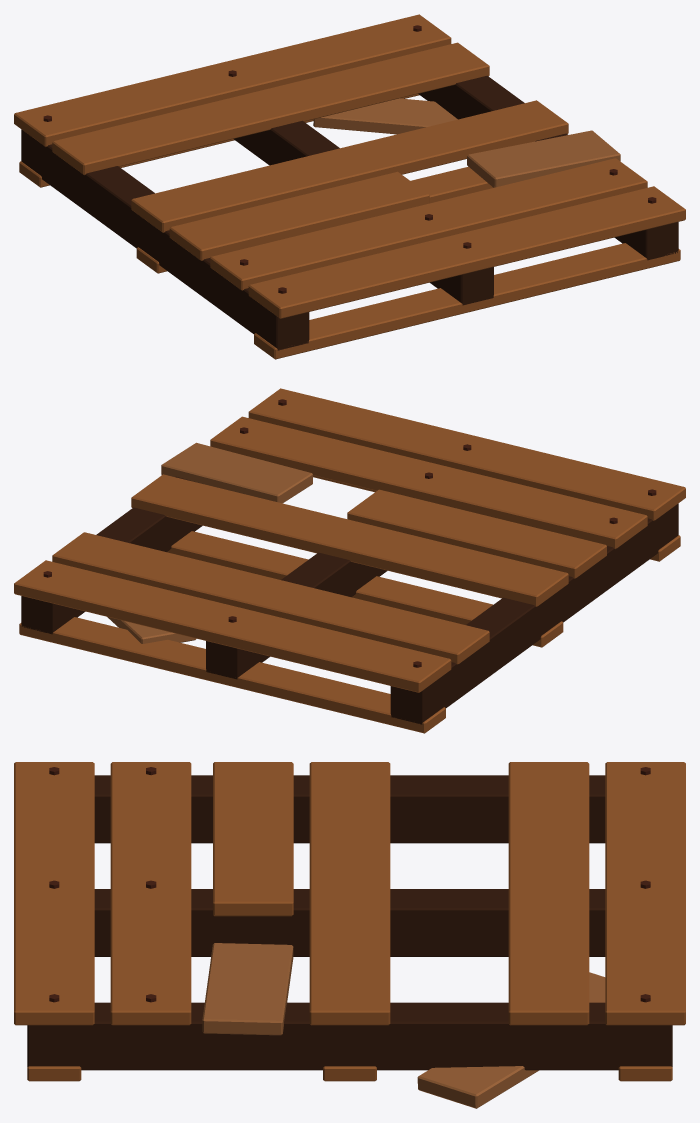
Rendered from DEBRIS_05_Pallet.obj.
3 views of the same model, one above another, from view 1: azimuth 30°, elevation 25°; view 2: azimuth 150°, elevation 25°; view 3: azimuth 270°, elevation 25° (orthographic). The views are drawn at different scales.
Parts seen in each view (by area): view 1: DEBRIS_05_Pallet_Top_Boards, DEBRIS_05_Pallet_Stringers, DEBRIS_05_Pallet_Bottom_Boards, DEBRIS_05_Pallet_Broken_Board; view 2: DEBRIS_05_Pallet_Top_Boards, DEBRIS_05_Pallet_Stringers, DEBRIS_05_Pallet_Bottom_Boards, DEBRIS_05_Pallet_Broken_Board; view 3: DEBRIS_05_Pallet_Top_Boards, DEBRIS_05_Pallet_Stringers, DEBRIS_05_Pallet_Broken_Board, DEBRIS_05_Pallet_Bottom_Boards, DEBRIS_05_Pallet_Nails.
Boxes of the visible parts, x1=… form: DEBRIS_05_Pallet_Top_Boards: x1=14, y1=14, x2=685, y2=318; DEBRIS_05_Pallet_Stringers: x1=21, y1=75, x2=678, y2=350; DEBRIS_05_Pallet_Bottom_Boards: x1=19, y1=94, x2=680, y2=359; DEBRIS_05_Pallet_Broken_Board: x1=313, y1=98, x2=620, y2=187; DEBRIS_05_Pallet_Top_Boards: x1=14, y1=388, x2=685, y2=692; DEBRIS_05_Pallet_Stringers: x1=21, y1=476, x2=678, y2=724; DEBRIS_05_Pallet_Bottom_Boards: x1=19, y1=475, x2=680, y2=733; DEBRIS_05_Pallet_Broken_Board: x1=107, y1=442, x2=312, y2=643; DEBRIS_05_Pallet_Top_Boards: x1=14, y1=762, x2=685, y2=1025; DEBRIS_05_Pallet_Stringers: x1=27, y1=775, x2=672, y2=1070; DEBRIS_05_Pallet_Broken_Board: x1=202, y1=943, x2=605, y2=1108; DEBRIS_05_Pallet_Bottom_Boards: x1=27, y1=1066, x2=672, y2=1081; DEBRIS_05_Pallet_Nails: x1=49, y1=767, x2=650, y2=1002.
Size of the model in its own units: 1.21 by 0.1569 by 1.25.
